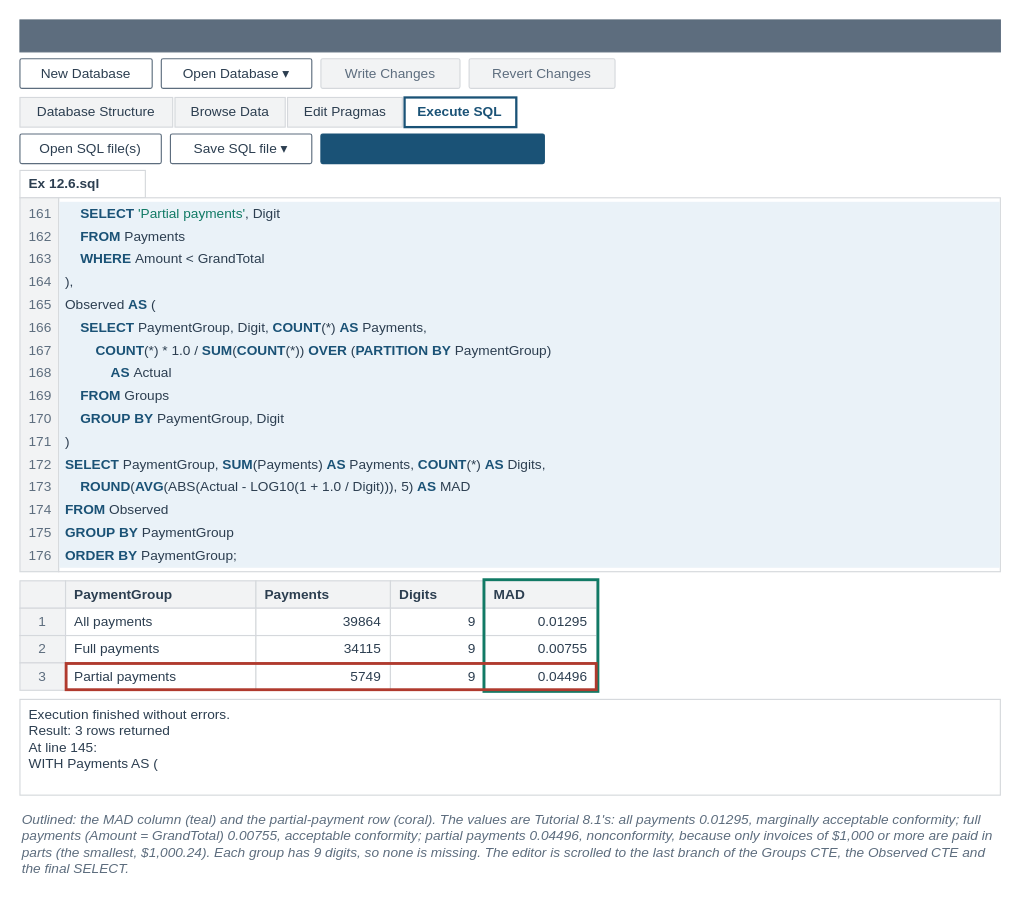
Some shapes in this 1020 by 909 pixel diagram are drawn without their labels. The centre of each missing label's shape, as x and y in pixels:
"DB Browser for SQLite - C:\Users\you\Documents\CharlesRiver_Work.sqlite" goes at pixel 509 35.
"▶ Execute all/selected SQL" goes at pixel 432 148.
